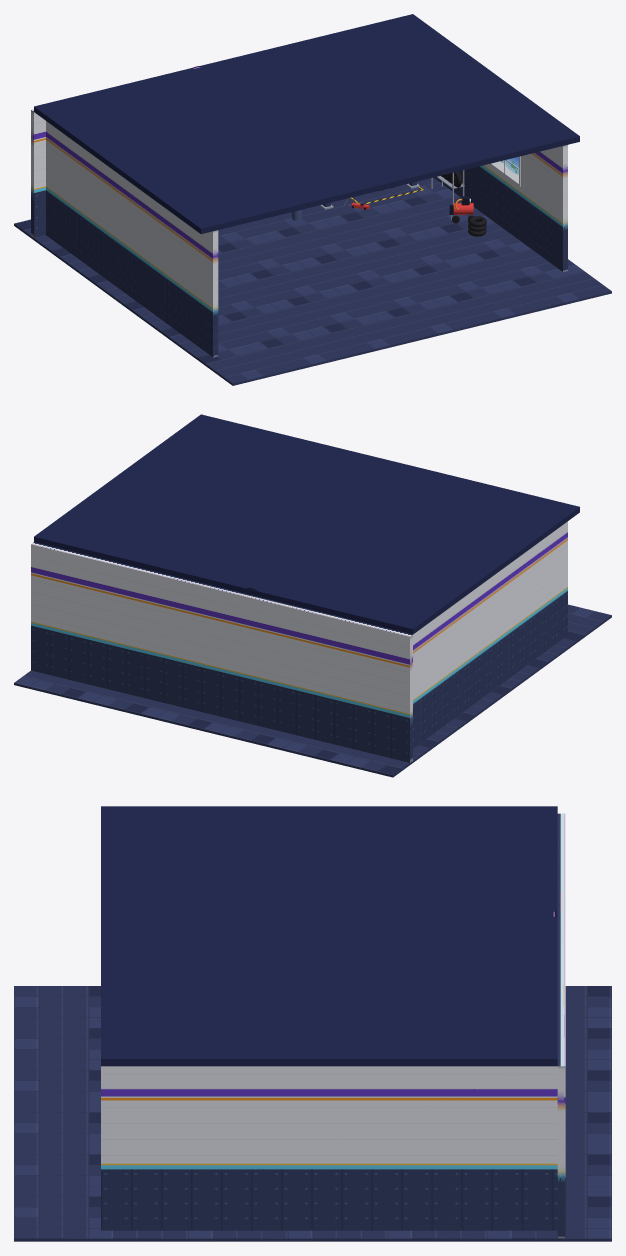
File: menu-garage.glb
3 renders of one model, top to bottom at view 1: azimuth 30°, elevation 25°; view 2: azimuth 150°, elevation 25°; view 3: azimuth 270°, elevation 25°, orthographic. The views are drawn at different scales.
Parts seen in each view (by area): view 1: Ceiling, Floor, WallLeft, WallRight, WallBack, Window; view 2: Ceiling, WallBack, WallLeft, Floor; view 3: Ceiling, WallRight, Floor, WallBack.
Part boxes in pixels (x1=…): Ceiling: x1=34, y1=14, x2=579, y2=234; Floor: x1=14, y1=177, x2=611, y2=385; WallLeft: x1=46, y1=121, x2=218, y2=357; WallRight: x1=434, y1=145, x2=567, y2=271; WallBack: x1=31, y1=109, x2=45, y2=237; Window: x1=490, y1=156, x2=520, y2=186; Ceiling: x1=34, y1=414, x2=579, y2=634; WallBack: x1=31, y1=542, x2=412, y2=762; WallLeft: x1=413, y1=521, x2=567, y2=748; Floor: x1=14, y1=604, x2=611, y2=777; Ceiling: x1=101, y1=806, x2=557, y2=1066; WallRight: x1=101, y1=1066, x2=557, y2=1230; Floor: x1=14, y1=986, x2=611, y2=1241; WallBack: x1=557, y1=813, x2=565, y2=1238.
Bounding box in the file's own units: 22 × 7.55 × 22.
77 materials, 11 textured.
